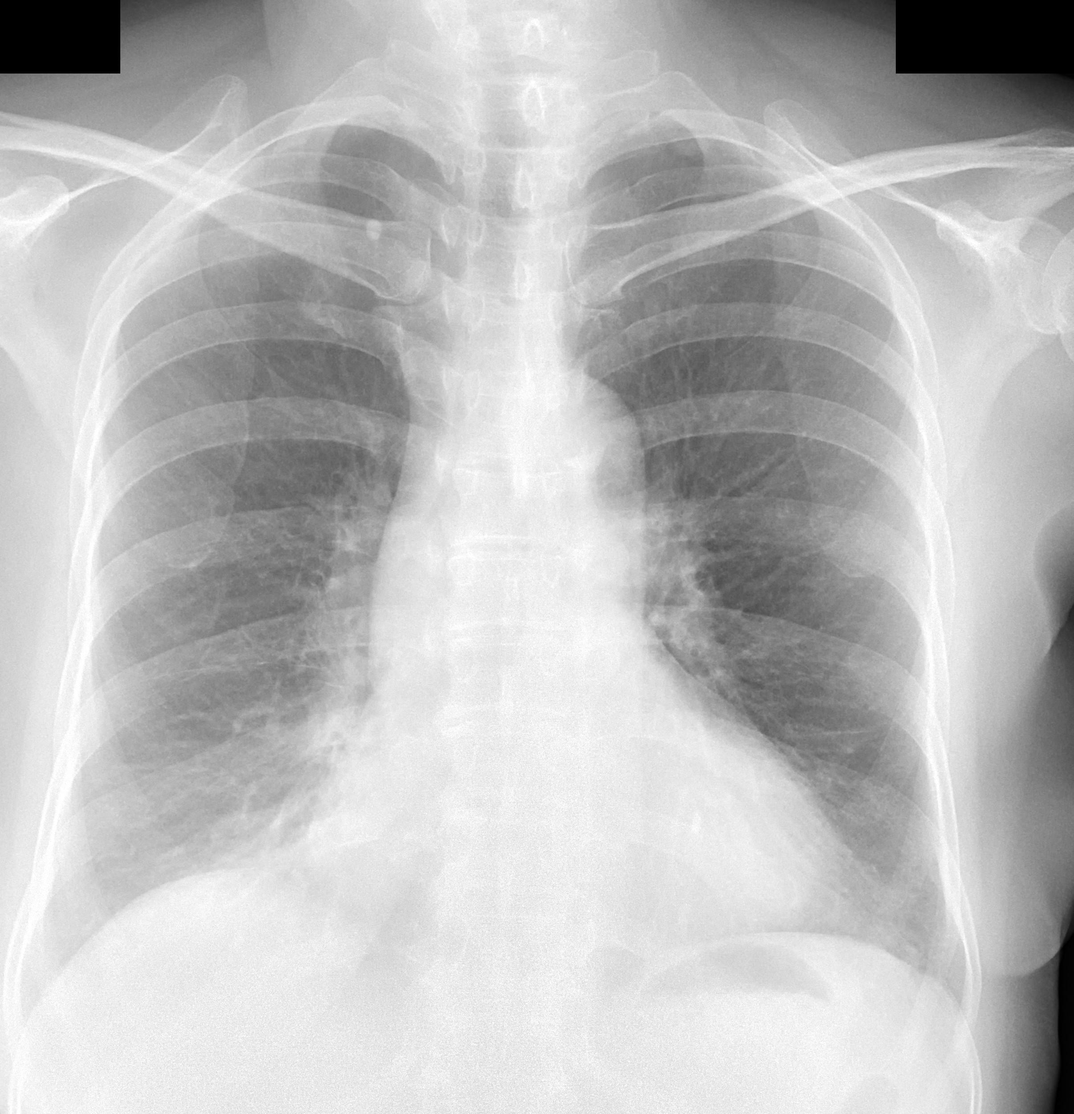Aortic enlargement: (504, 365, 645, 537)
Cardiomegaly: (298, 777, 849, 941)
